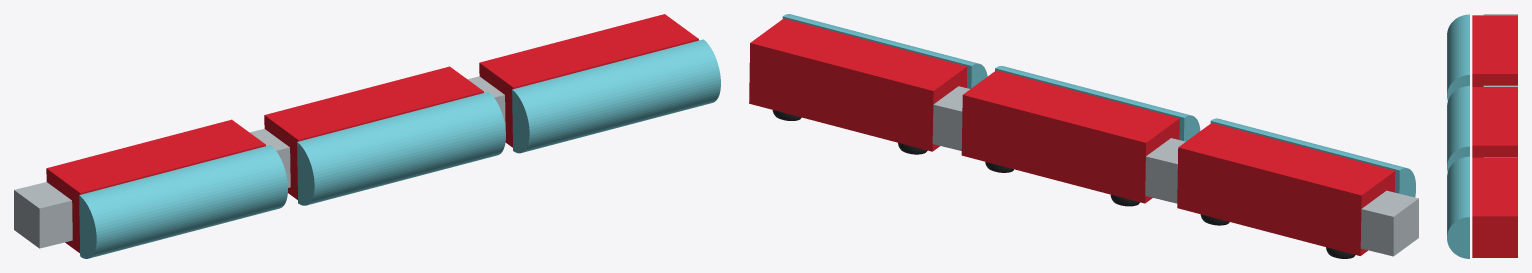
The model's file is tinker.obj.
The picture shows the model from 3 angles, left to right: view 1: azimuth 30°, elevation 25°; view 2: azimuth 150°, elevation 25°; view 3: azimuth 270°, elevation 25°; orthographic projection. The views are drawn at different scales.
Parts seen in each view (by area): view 1: group_0_7720667, group_0_15277357, group_0_12568524; view 2: group_0_15277357, group_0_12568524, group_0_7720667, group_0_2829873; view 3: group_0_15277357, group_0_7720667, group_0_12568524.
Part boxes in pixels (box(x1,y1,x2,y2)): group_0_7720667: box(79, 39, 720, 258); group_0_15277357: box(46, 14, 698, 252); group_0_12568524: box(14, 76, 505, 248); group_0_15277357: box(749, 18, 1395, 255); group_0_12568524: box(932, 86, 1418, 256); group_0_7720667: box(782, 14, 1415, 197); group_0_2829873: box(772, 110, 1355, 258); group_0_15277357: box(1472, 15, 1517, 257); group_0_7720667: box(1447, 14, 1469, 258); group_0_12568524: box(1483, 14, 1517, 157).
Size of the model in its own units: 222 by 24.13 by 31.
